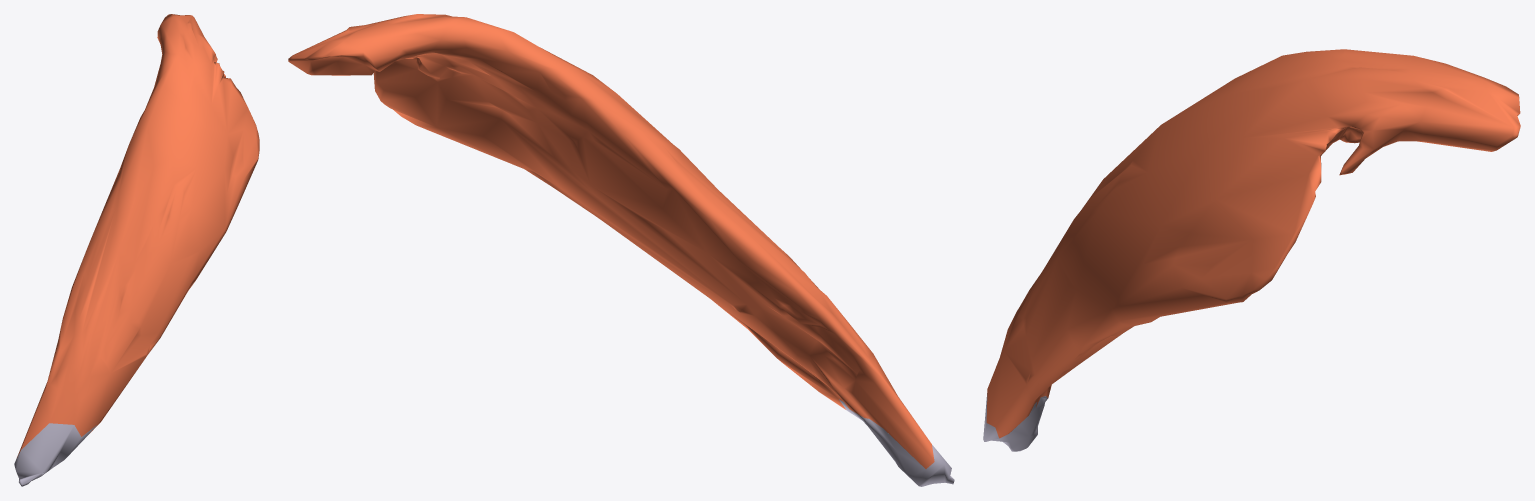
The model's file is Abductor_pollicis_brevis.r_Generated_Mesh_From_X3D.1016.glb.
3 views of the same model, side by side, from view 1: azimuth 30°, elevation 25°; view 2: azimuth 150°, elevation 25°; view 3: azimuth 270°, elevation 25° (orthographic). The views are drawn at different scales.
Visible parts, largest first — view 1: Abductor_pollicis_brevis.r_Generated_Mesh_From_X3D.1016; view 2: Abductor_pollicis_brevis.r_Generated_Mesh_From_X3D.1016; view 3: Abductor_pollicis_brevis.r_Generated_Mesh_From_X3D.1016.
Boxes of the visible parts, x1,y1,x2,y2 form: Abductor_pollicis_brevis.r_Generated_Mesh_From_X3D.1016: [14, 14, 259, 486]; Abductor_pollicis_brevis.r_Generated_Mesh_From_X3D.1016: [288, 14, 954, 486]; Abductor_pollicis_brevis.r_Generated_Mesh_From_X3D.1016: [983, 49, 1520, 451].
Size of the model in its own units: 0.0407 by 0.0396 by 0.0307.
